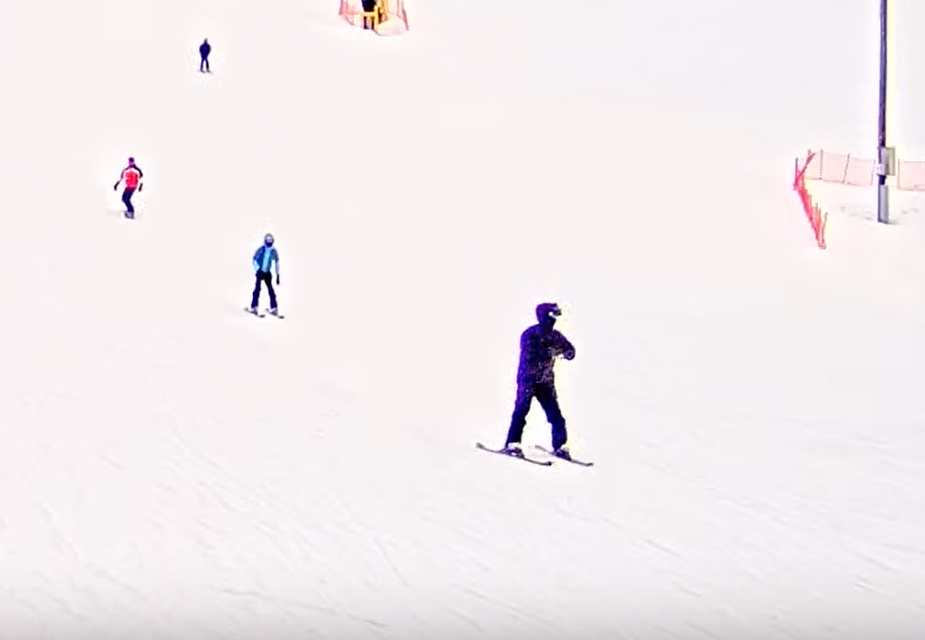skier: (462, 287, 622, 476), (233, 223, 299, 322), (185, 31, 219, 75)
snowboarder: (100, 149, 157, 228)
